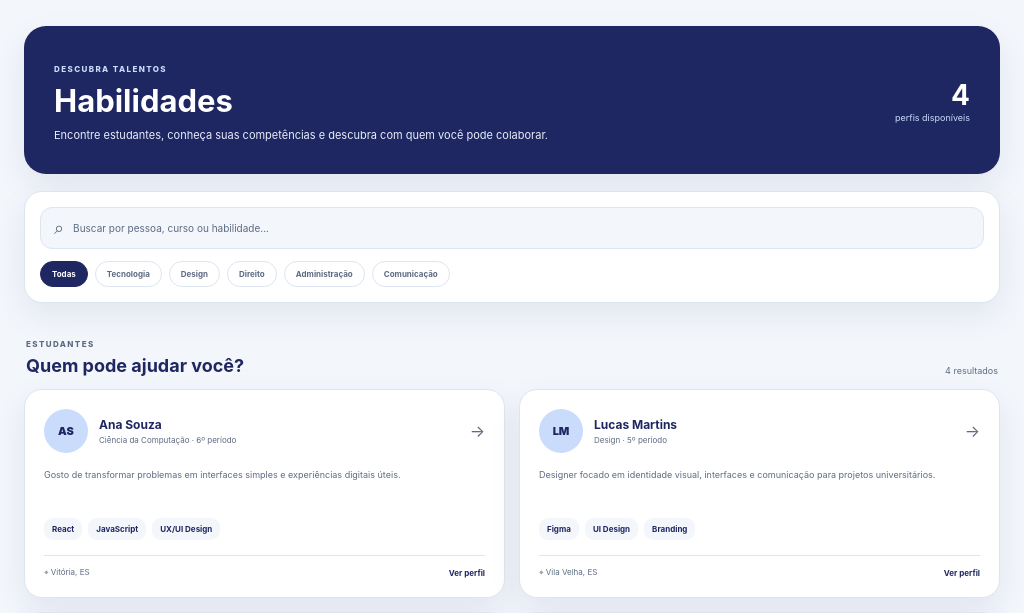
Scenario: conexões em Habilidades › ignora valores inválidos ao ler conexões persistidas
The image size is (1024, 613).
Click the button "Lucas Martins".
click(561, 431)  # box [519,389,1000,598]
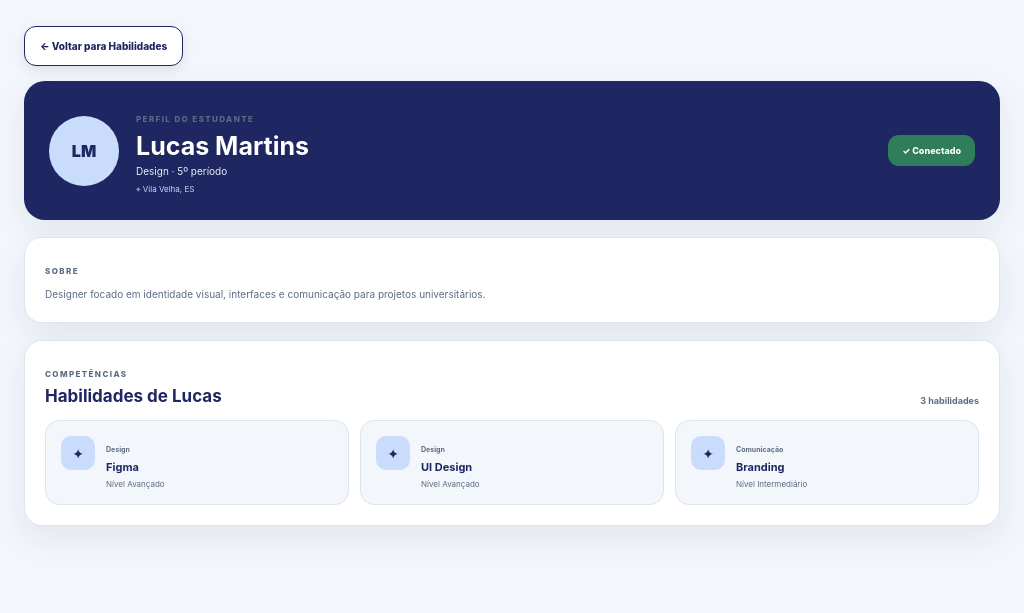
Expected: the button "✓ Conectado" is shown, [888,135,975,166]
